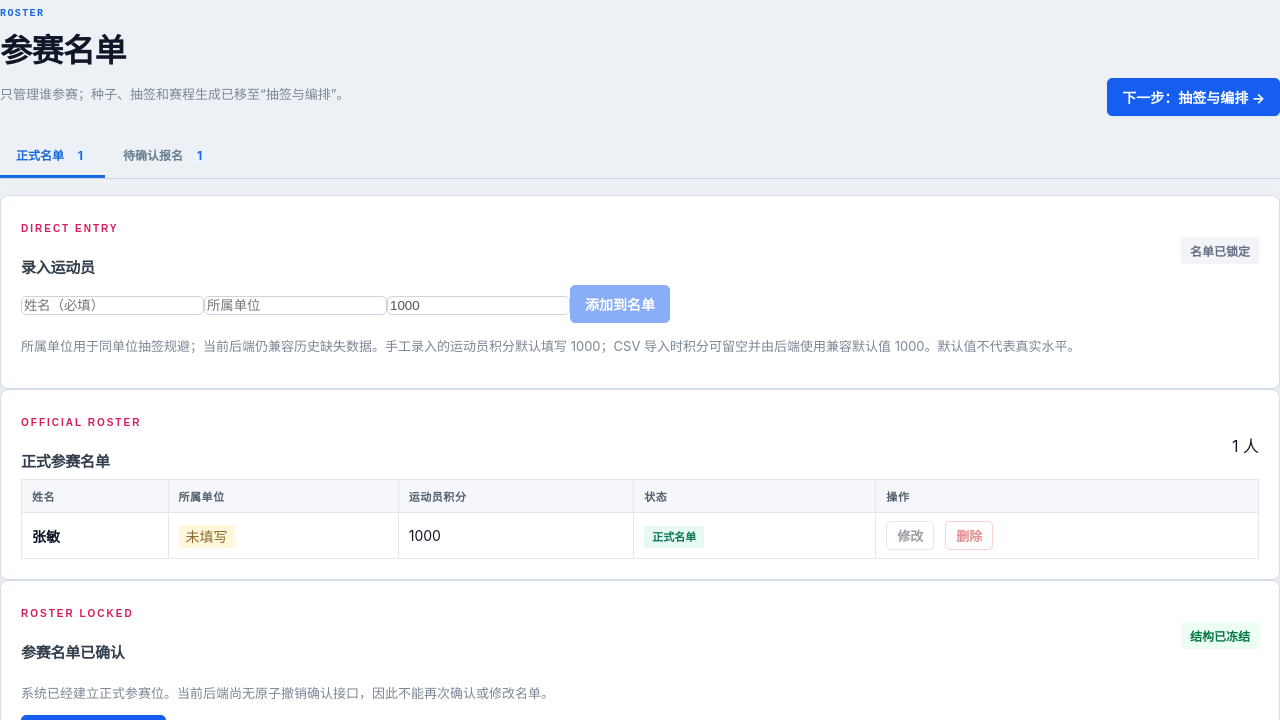
Test case: 参赛名单与待确认报名 › 名单确认后冻结 CRUD、报名确认和重复确认
The width and height of the screenshot is (1280, 720).
Check: the heading "参赛名单已确认" is shown, box x1=21 y1=641 x2=134 y2=662
Check: the button "修改" is disabled, box x1=886 y1=521 x2=934 y2=550
Click the tab "待确认报名 1" at (166, 156), box x1=107 y1=134 x2=224 y2=178
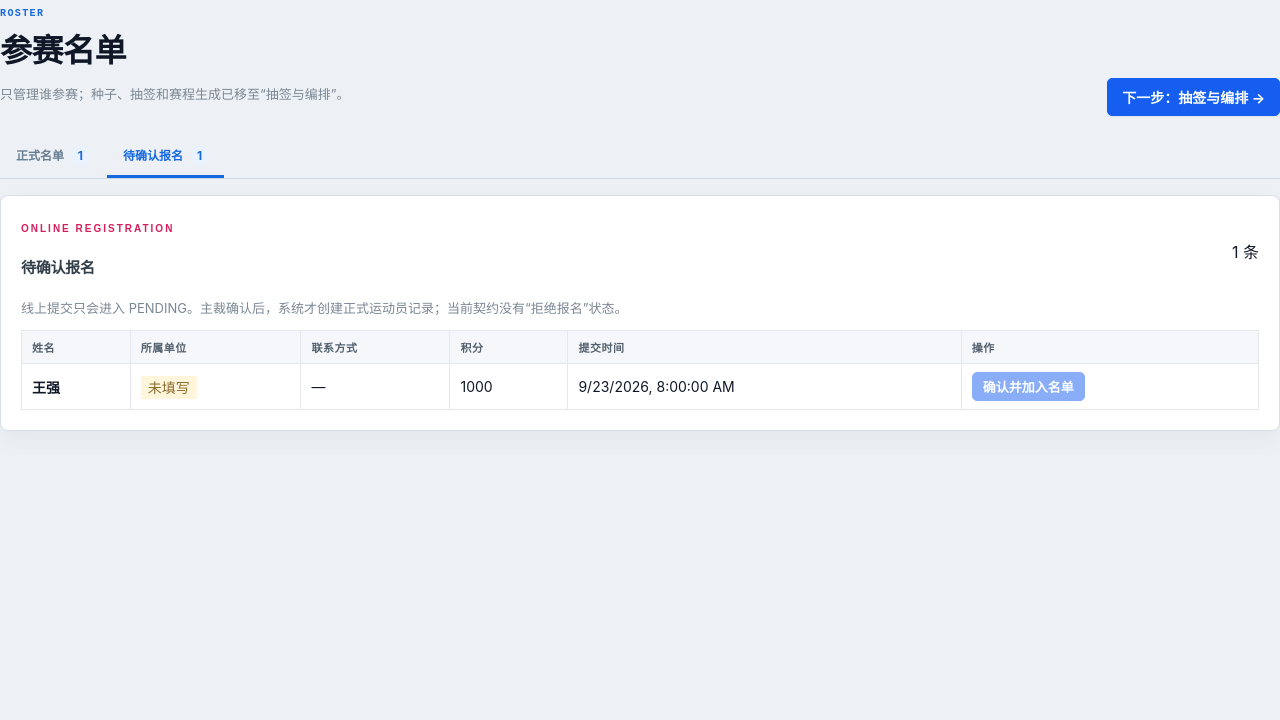
Check: the button "确认并加入名单" is disabled, box x1=972 y1=372 x2=1085 y2=401
